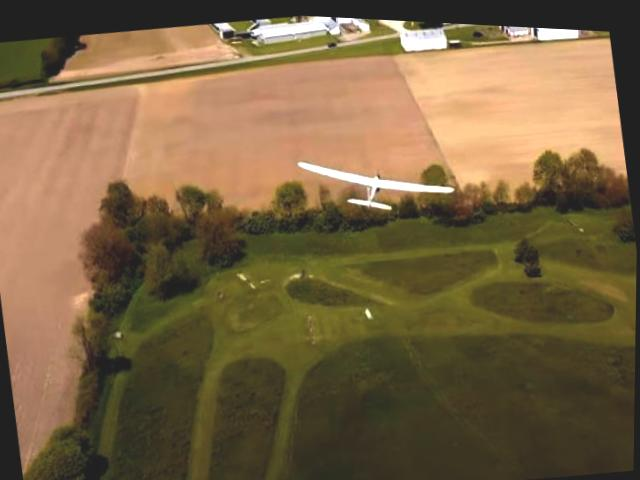iha: (300, 135, 456, 222)
